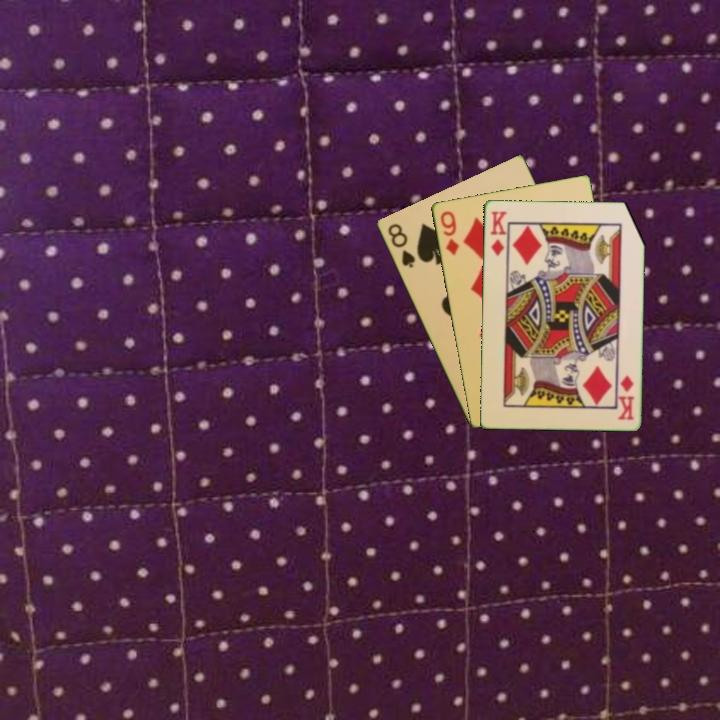8s: (384, 220, 418, 271)
9d: (436, 207, 462, 258)
Kd: (487, 207, 509, 258), (615, 371, 637, 422)
